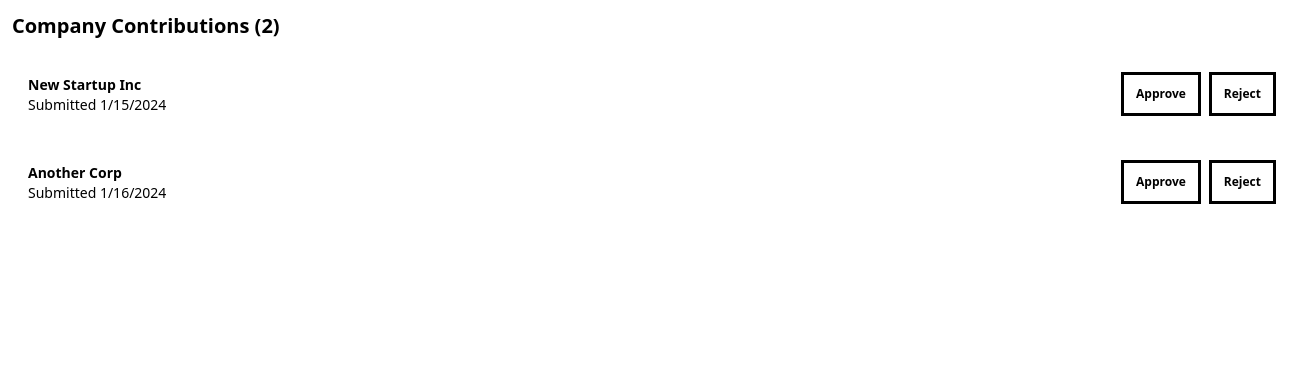
Test: AdminModerationQueue › T116: reject contribution action › expands rejection form when reject clicked
Click the button "Reject" in the row of "1/15/2024" at [1242, 94], box 1209,72 -> 1276,116
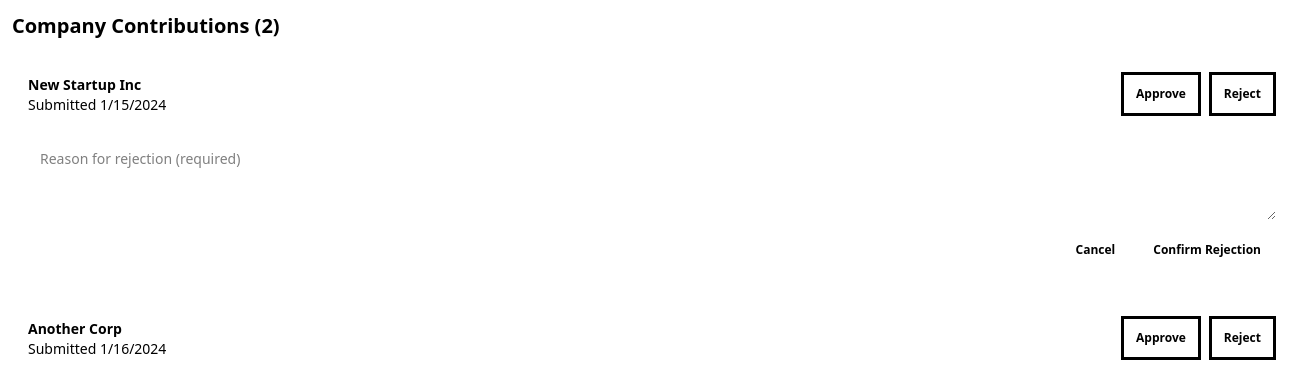
Now the text box with placeholder "Reason for rejection (required)" is shown, box 28,140 -> 1276,220
Now the button "Confirm Rejection" is shown, box 1138,228 -> 1276,272
